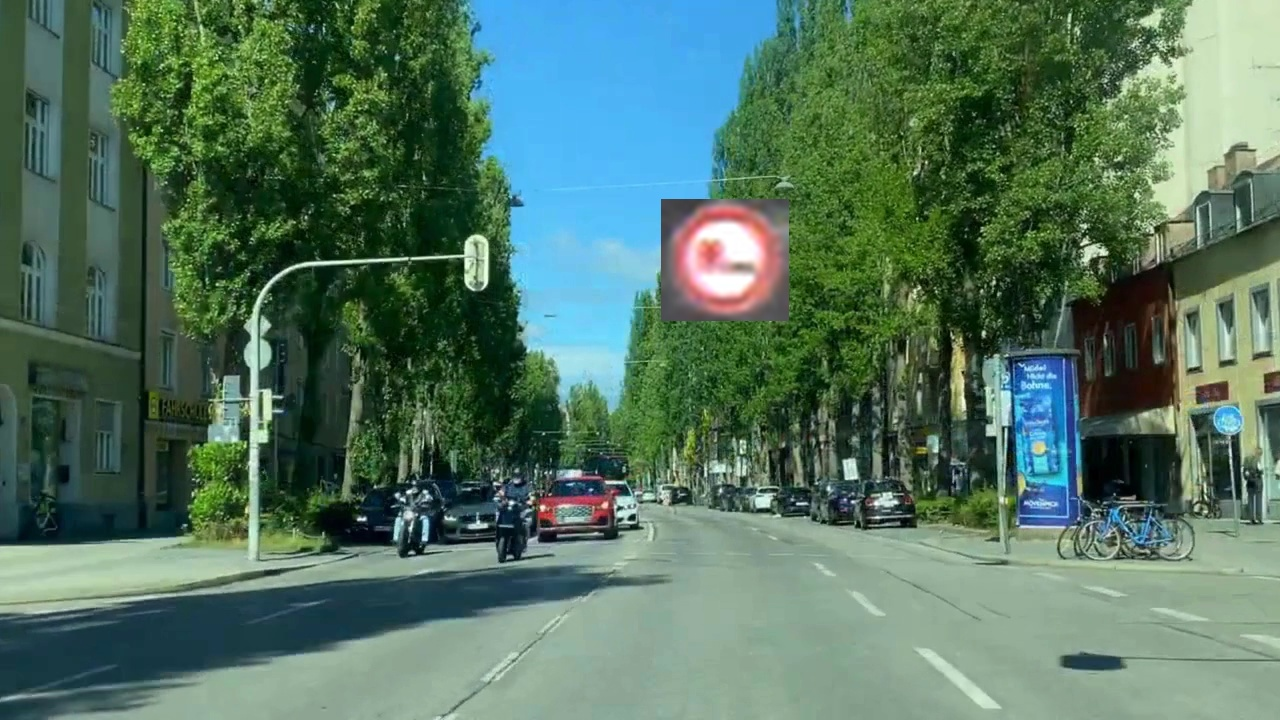No pass >3.5t: (661, 199, 789, 321)
